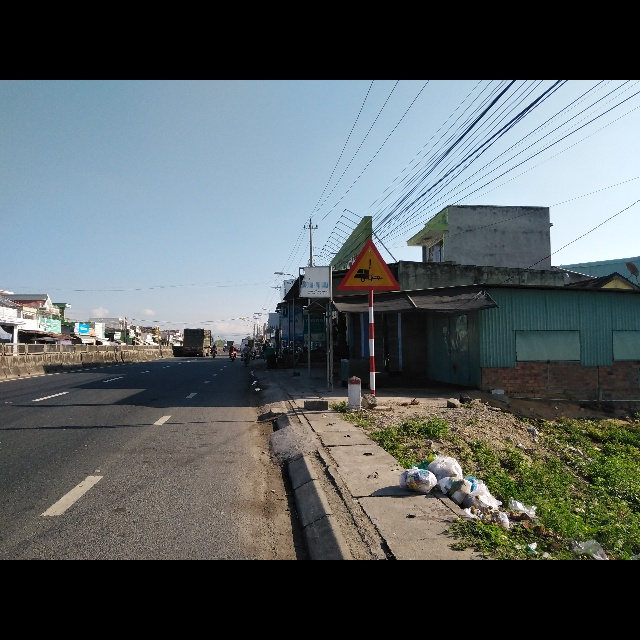Hết khu đông dân cư: (338, 237, 400, 292)
